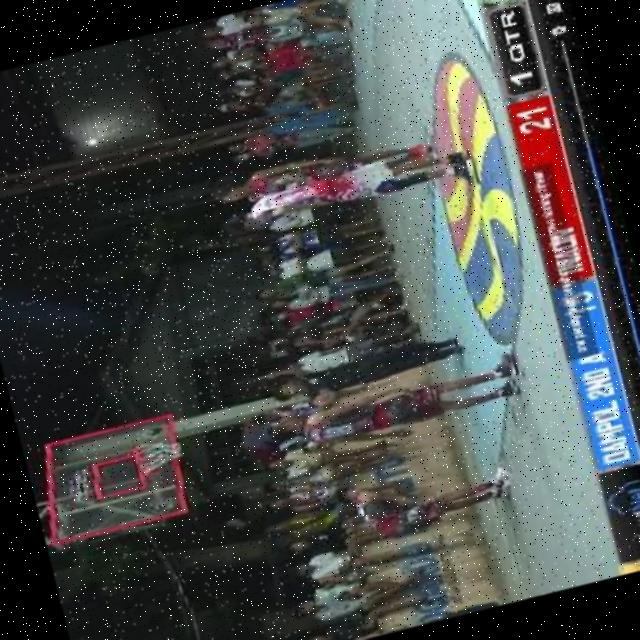ball: (308, 386, 346, 412)
hoop: (128, 437, 150, 481)
